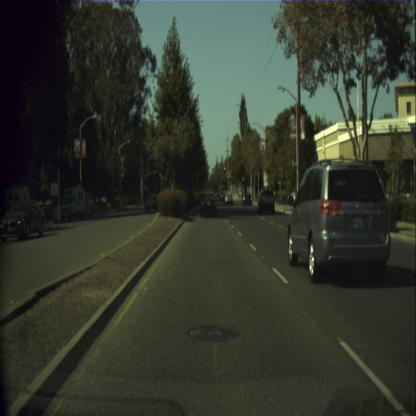Red: (224, 166, 226, 174), (212, 165, 213, 172)
Yellow: (241, 175, 244, 184)
